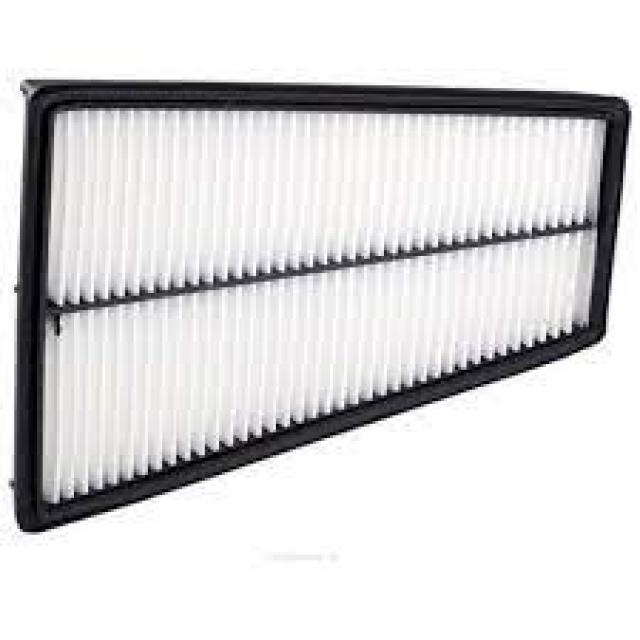air_filter: (17, 87, 630, 543)
